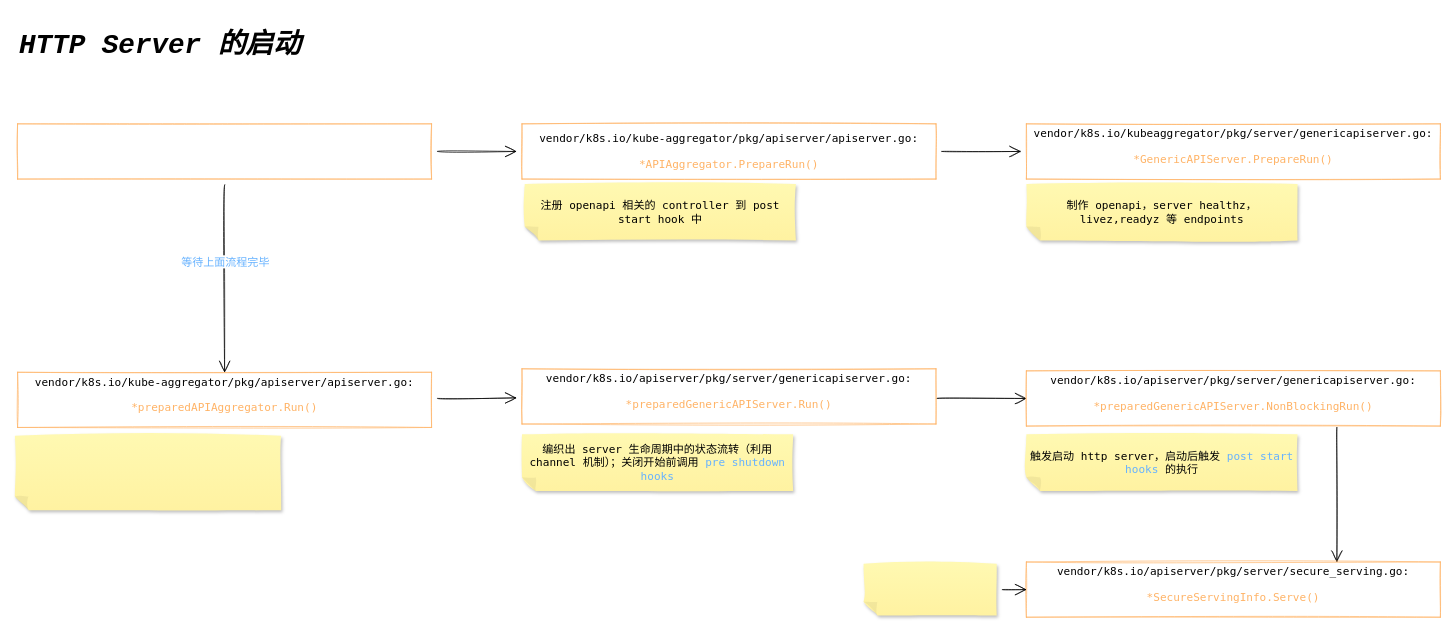
The diagram is 1452 pixels wide and 632 high, and some of its shapes have lost their labels. Each missing label, with the centre of its shape:
"cmd/kube-apiserver/app/server.go: Run()" belongs at [224,151].
"HTTP2.0，TLS 设置，启动 Server" belongs at [930,590].
"啥也没干，直接去调用下一个方法" belongs at [148,474].
